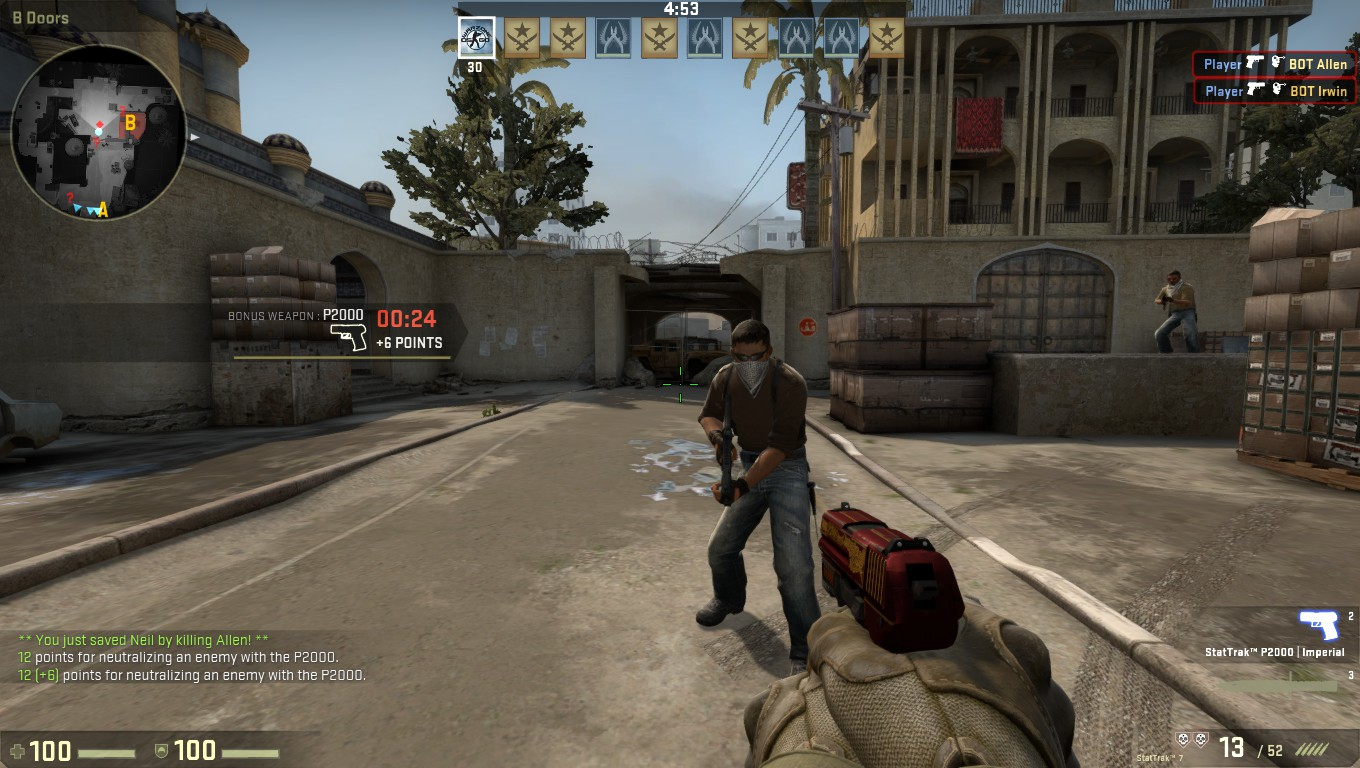t: (691, 318, 824, 649), (1154, 266, 1207, 351)
th: (718, 319, 781, 384), (1157, 266, 1188, 291)
